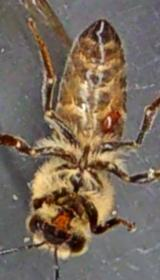varroa_mite: (96, 104, 122, 135)
